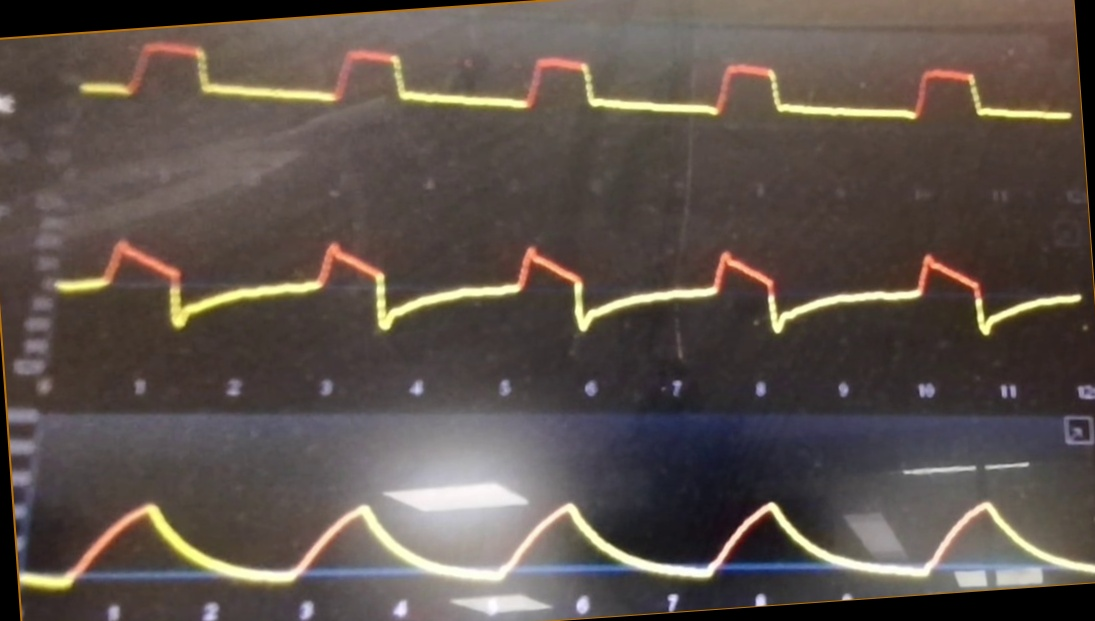Normal Flow: (57, 209, 1085, 358)
Normal Volume: (26, 436, 1095, 585)
